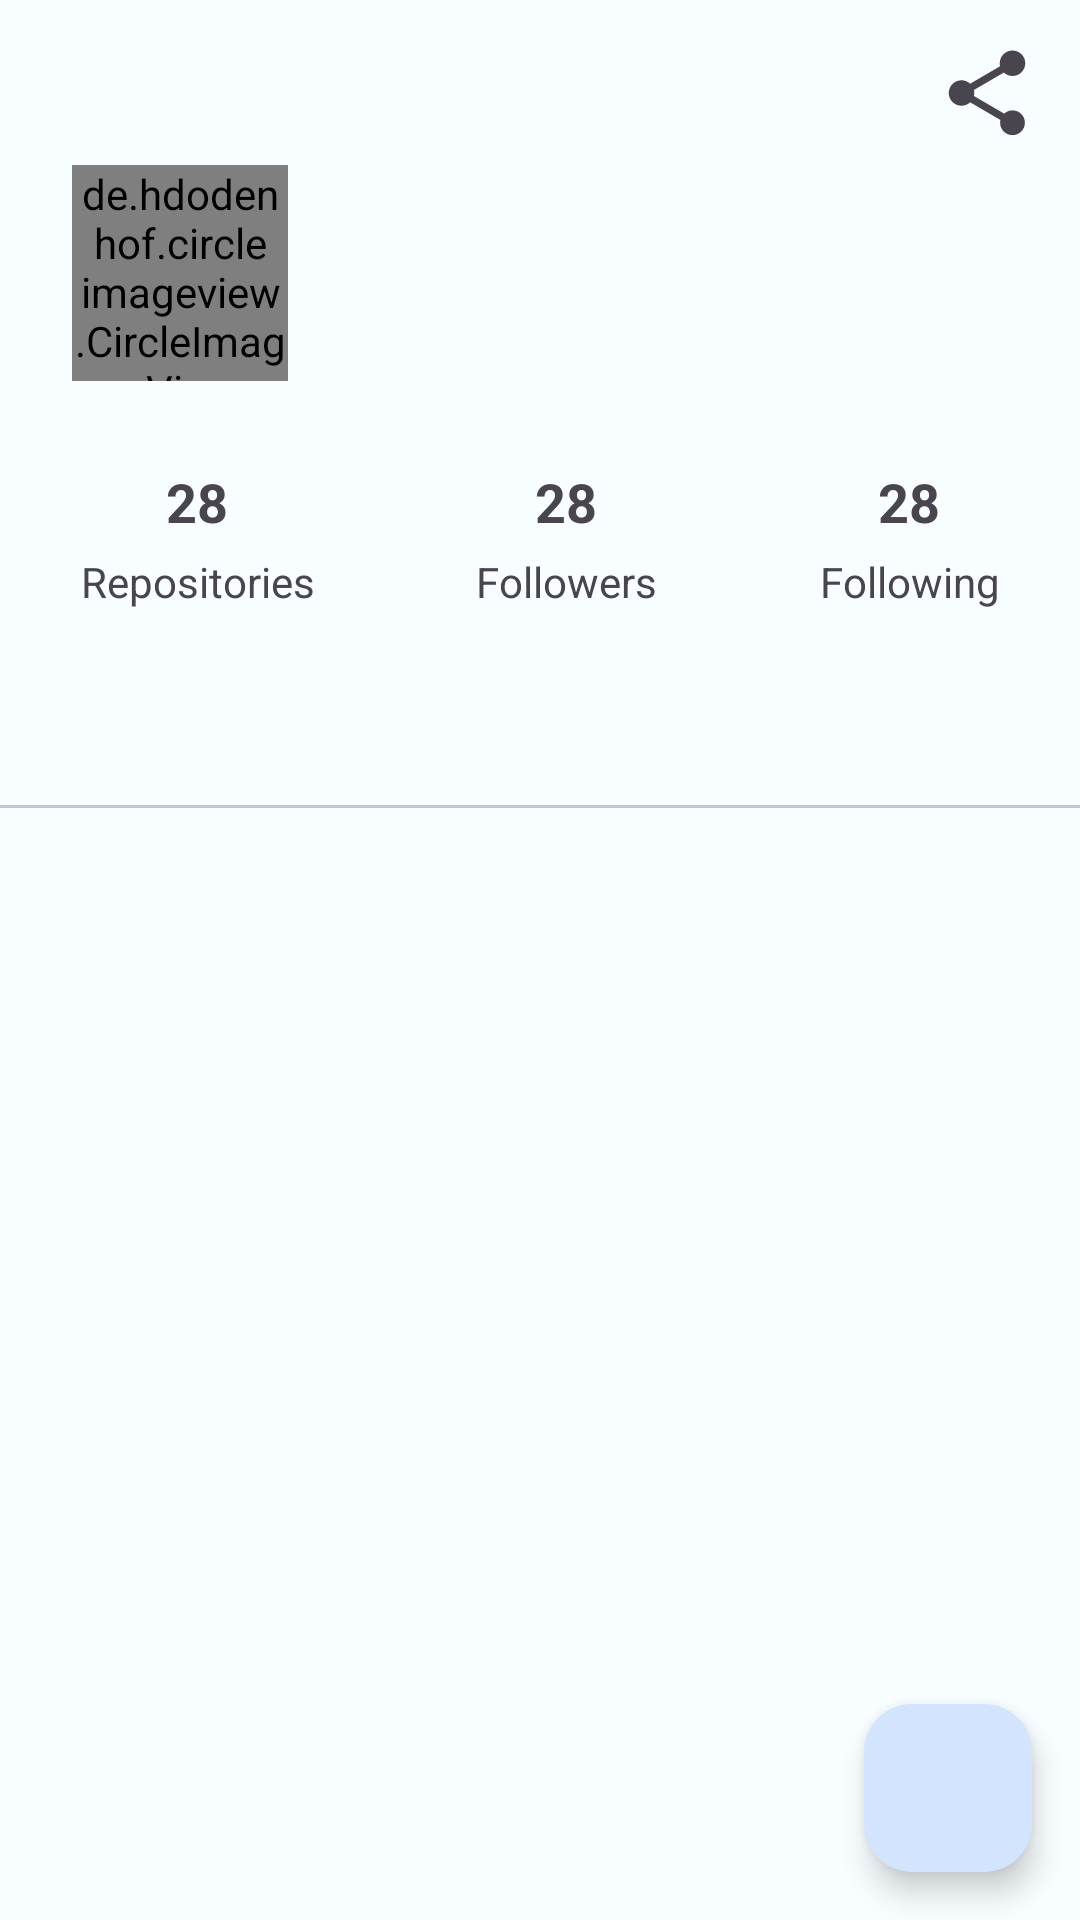

Icon bounding boxes for this 1080×1920 phone screenshot, format (x1=x1, y1=y1, x2=x2, y2=y2):
share: (x1=948, y1=50, x2=1026, y2=135)
